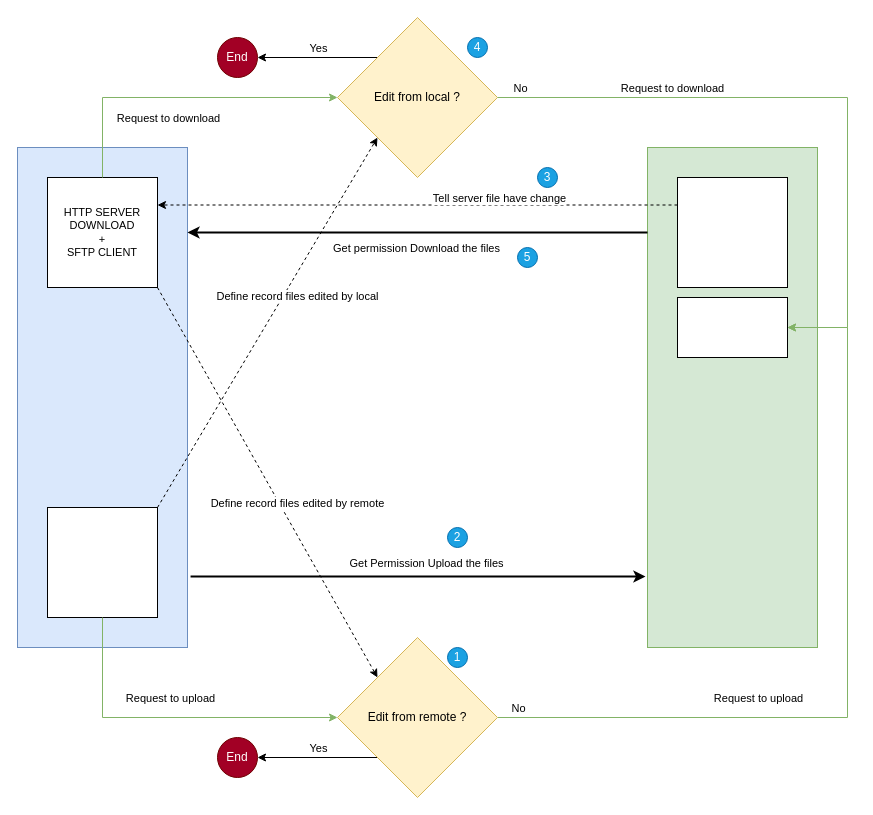
This 873x815 diagram has some shape labels left out. The centre of each missing label's shape, as x and y in pixels:
"HTTP CLIENT" belongs at (732,232).
"SFTP Server" belongs at (732,327).
"UPLOAD + SFTP CLIENT" belongs at (102,562).
